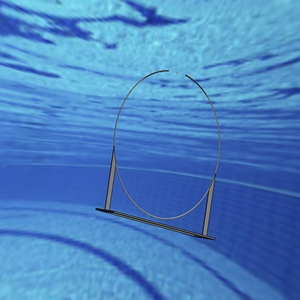circle: (96, 66, 222, 241)
